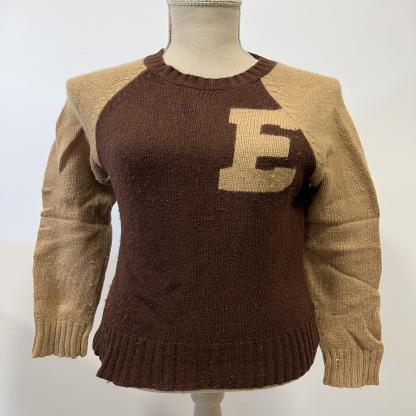stain: (171, 99, 200, 120)
